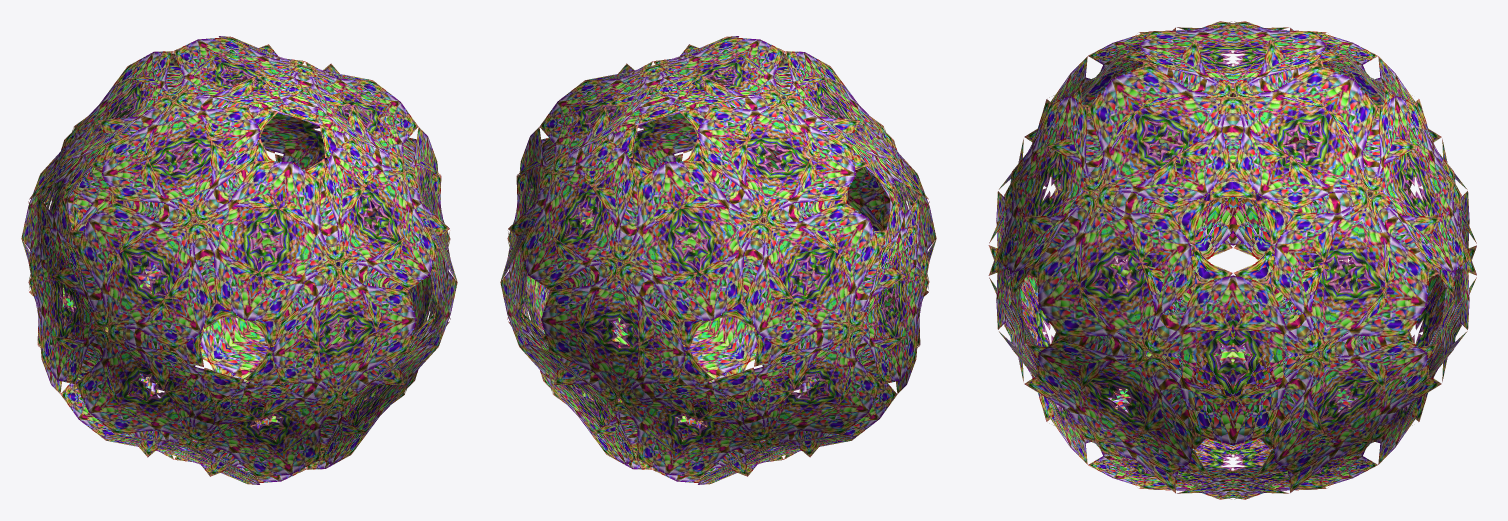
Rendered from 24MedialDeltoidalHexecontahedron.gltf.
3 renders of one model, left to right at view 1: azimuth 30°, elevation 25°; view 2: azimuth 150°, elevation 25°; view 3: azimuth 270°, elevation 25°, orthographic. The views are drawn at different scales.
Visible parts, largest first — view 1: MedialDeltoidalHexecontahedron9; view 2: MedialDeltoidalHexecontahedron9; view 3: MedialDeltoidalHexecontahedron9.
Boxes of the visible parts, x1=… form: MedialDeltoidalHexecontahedron9: x1=21, y1=36, x2=457, y2=484; MedialDeltoidalHexecontahedron9: x1=500, y1=36, x2=936, y2=484; MedialDeltoidalHexecontahedron9: x1=988, y1=21, x2=1476, y2=499.
Bounding box in the file's own units: 2.68 × 2.68 × 2.68.
Materials: 1 (1 with a texture image).
